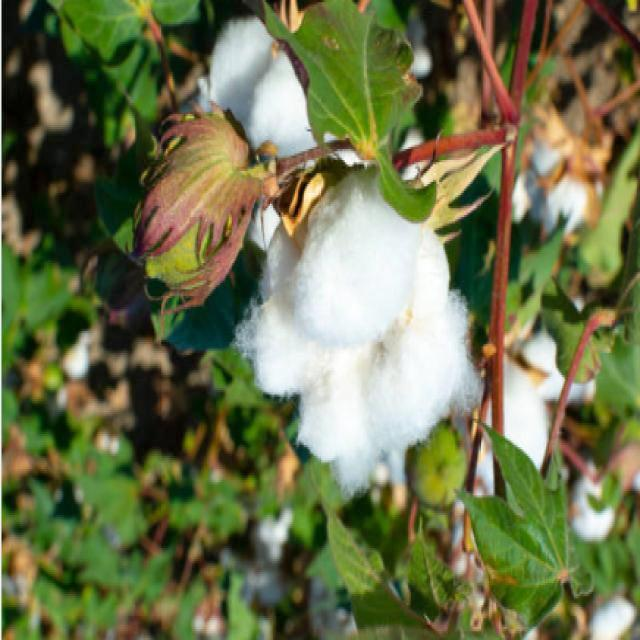Early Boll: (126, 124, 256, 306)
Matured Cotton Boll: (248, 172, 468, 462), (214, 28, 314, 151)
